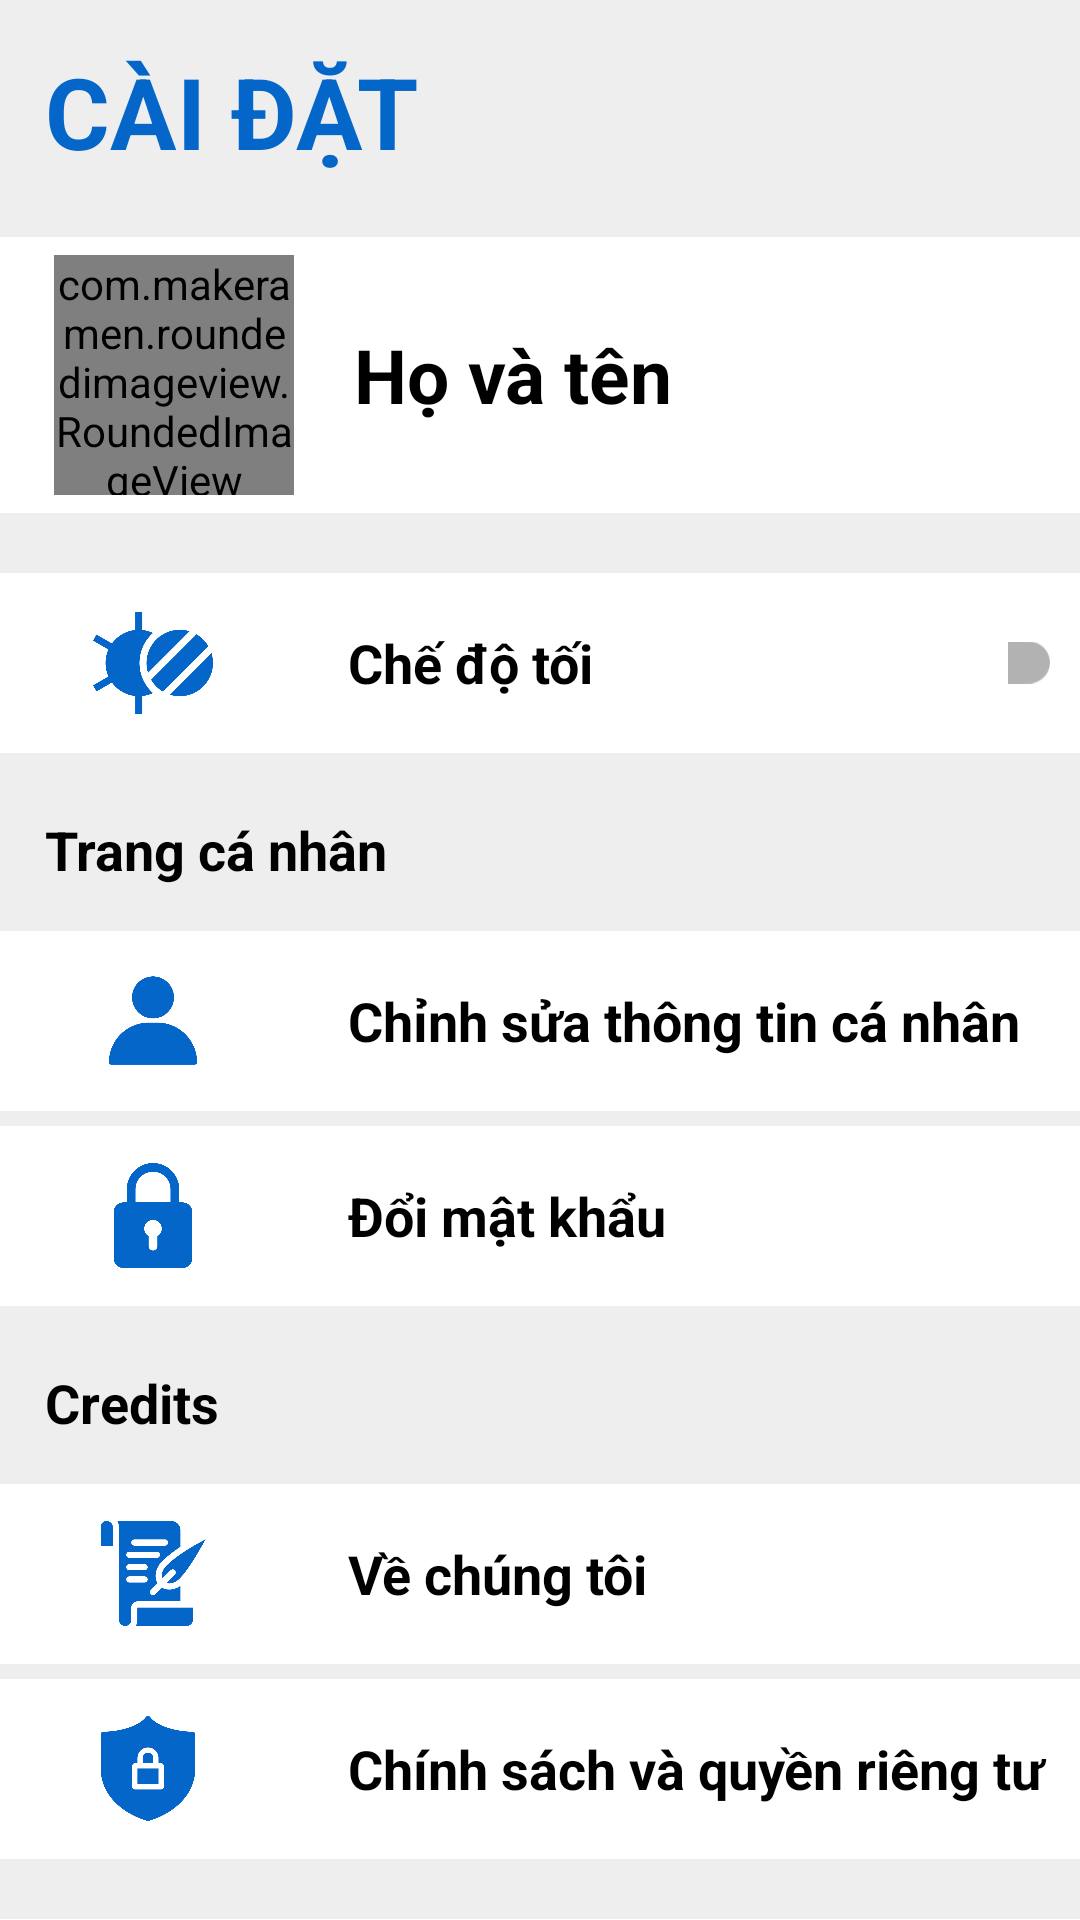

Point at icon controls on the screen. Image size 1080*1920, points as point (x, y).
account nhi: point (153, 1020)
author nhi: point (153, 1573)
darkmode nhi: point (153, 663)
pass nhi: point (153, 1215)
privacy nhi: point (148, 1768)
